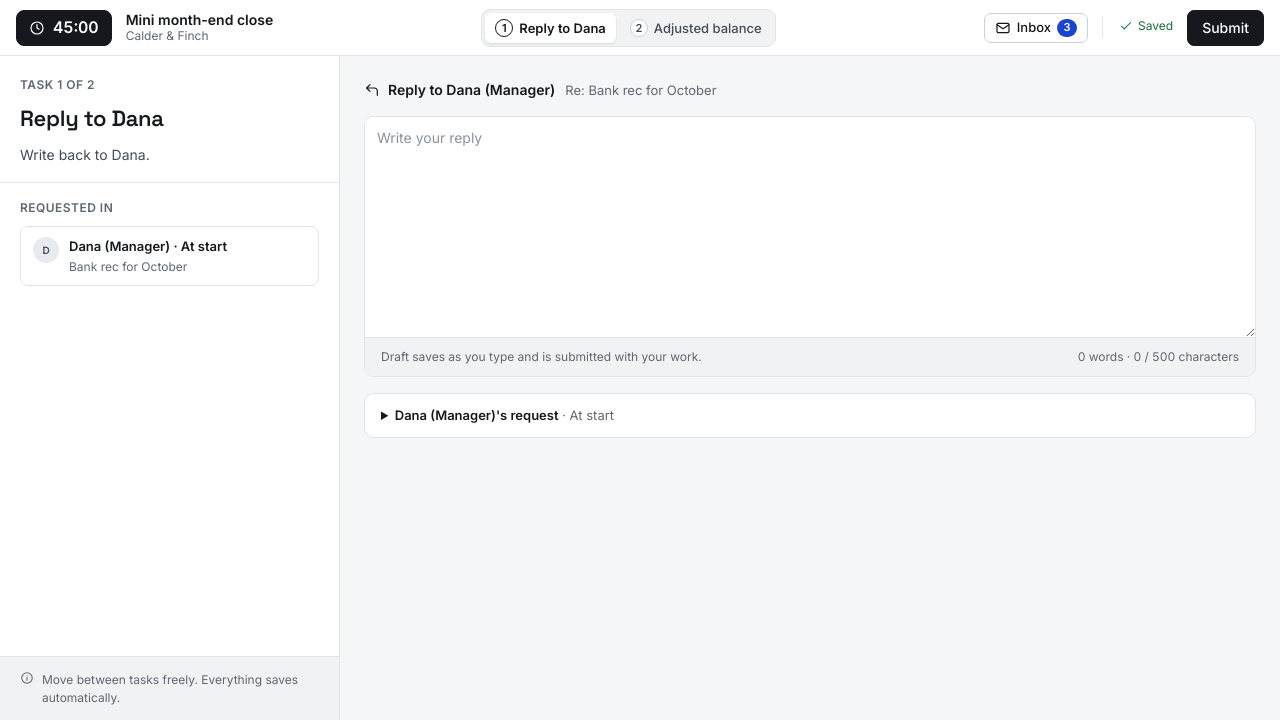
tasks and messages › switches between tasks and keeps each task's answer
Type "On it." into the text box labelled "reply" at (810, 227), box [365,117,1255,337]
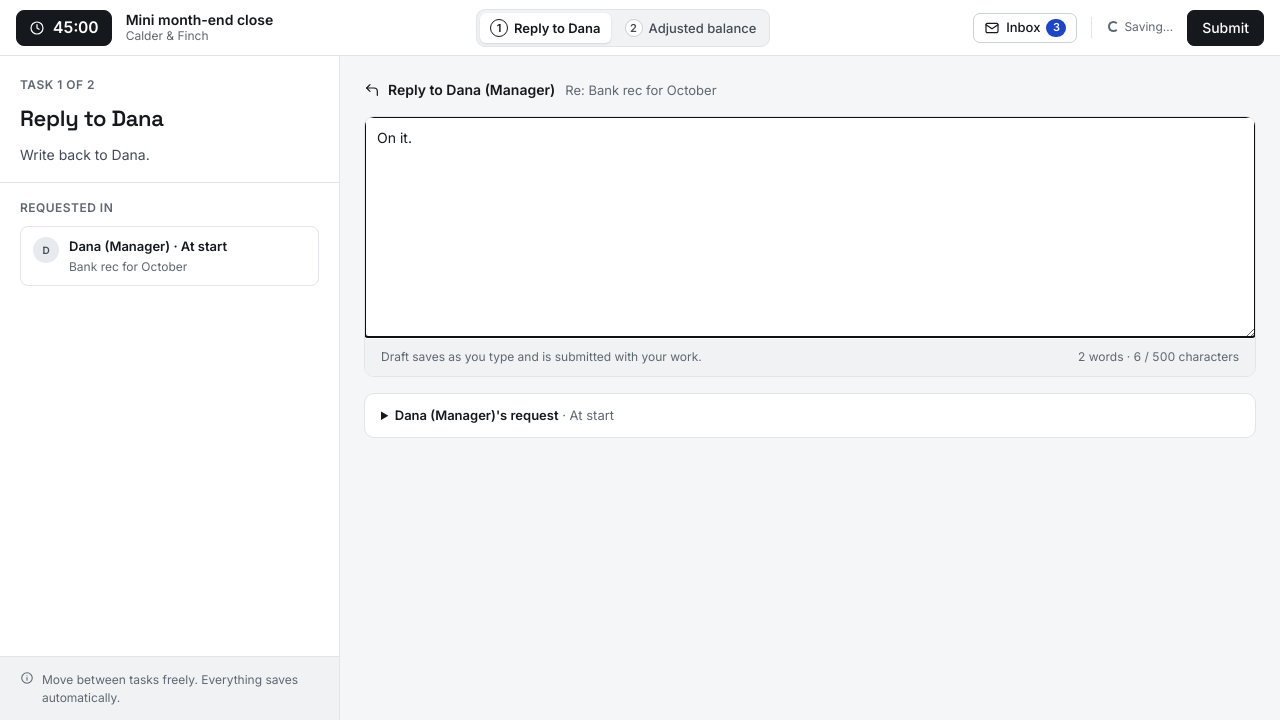
Click the button "2 Adjusted balance" at (690, 28), box [614,12,766,42]
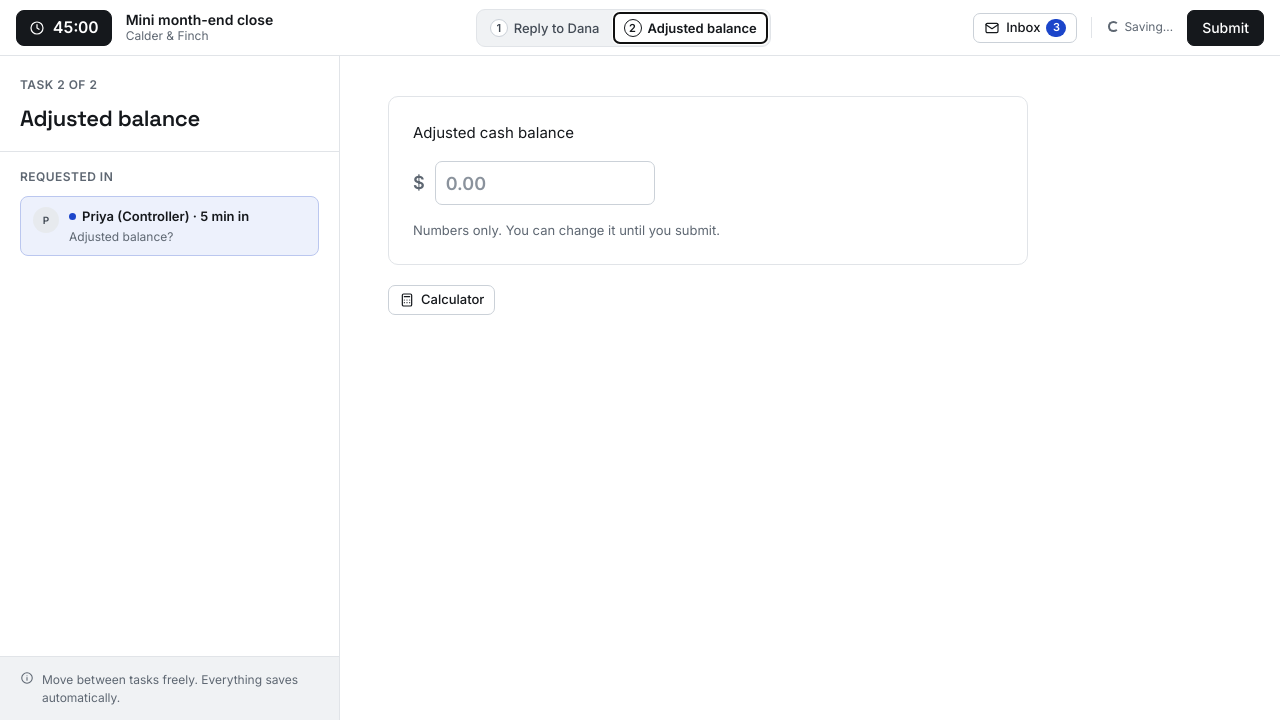
Expected: the heading "Adjusted balance" is shown, [20,104,200,132]
Type "1,234.56" into the field labelled "Adjusted cash balance" at (545, 183), box [435,161,655,205]
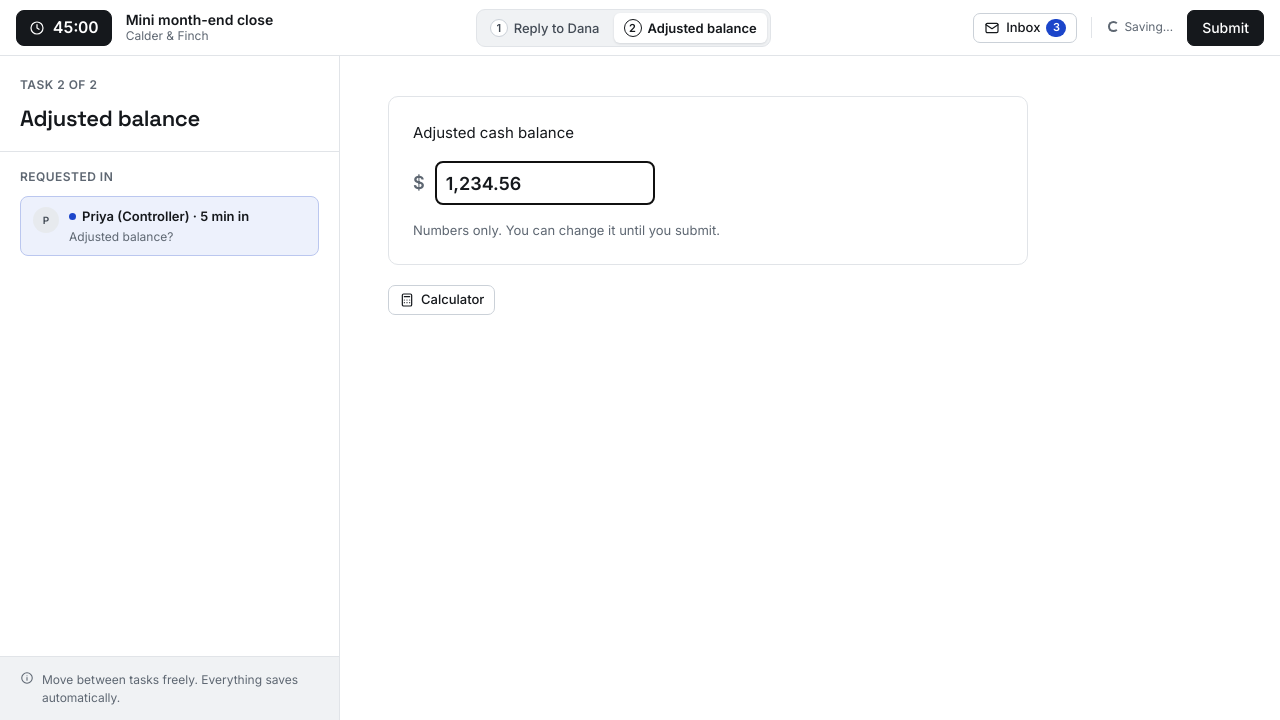
Click the button "1 Reply to Dana" at (545, 28), box [480,12,610,42]
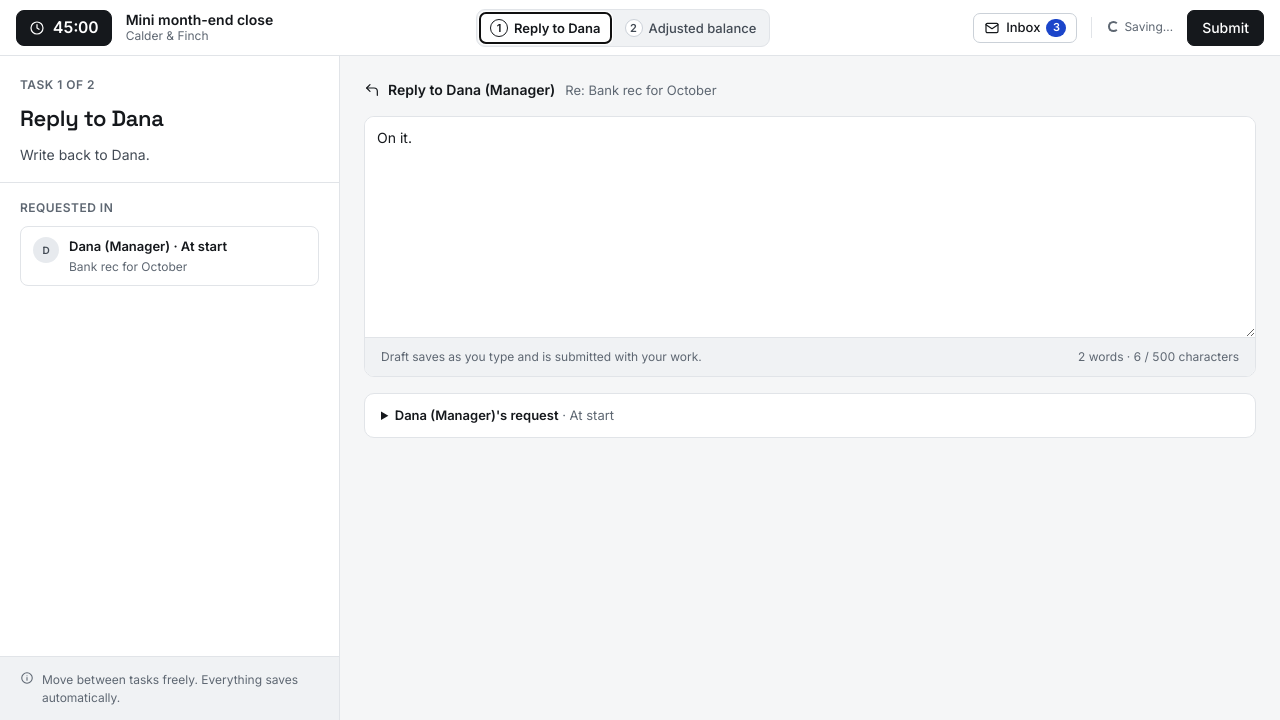
Expected: the text box named "reply" holds "On it.", [365,117,1255,337]
Click the button "2 Adjusted balance" at (690, 28), box [614,12,766,42]
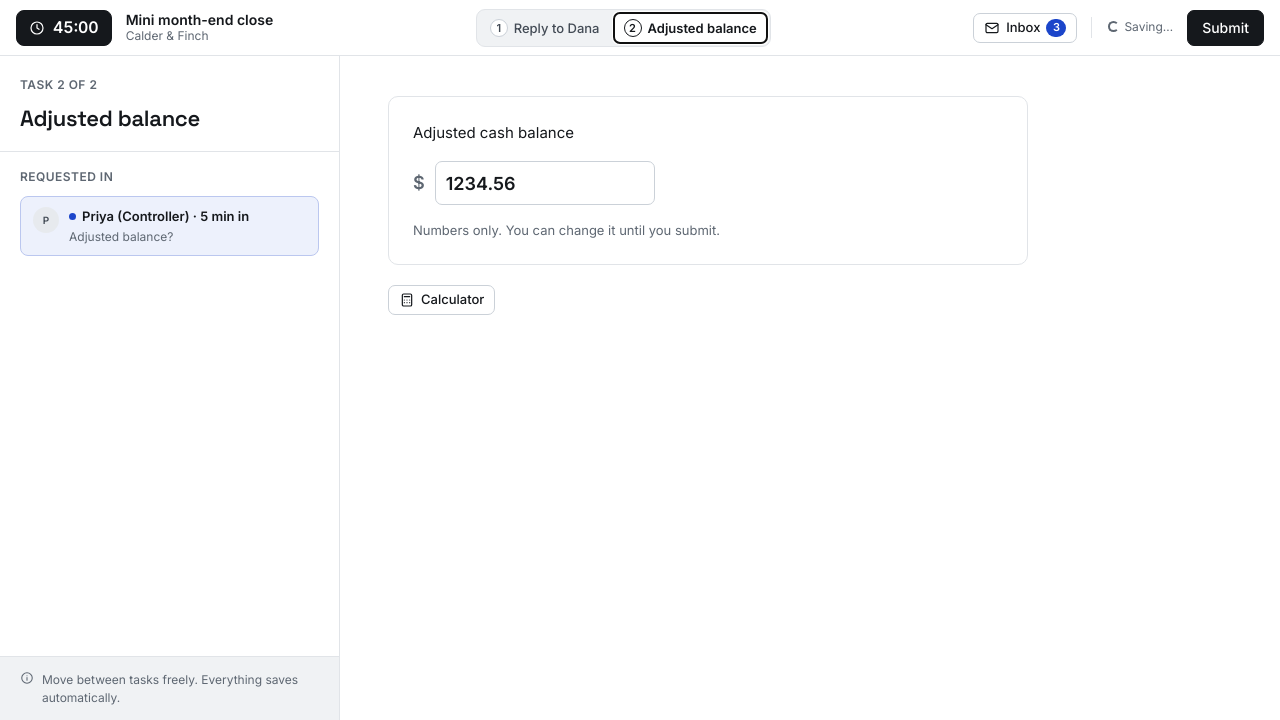
Expected: the field labelled "Adjusted cash balance" holds "1234.56", [435,161,655,205]
